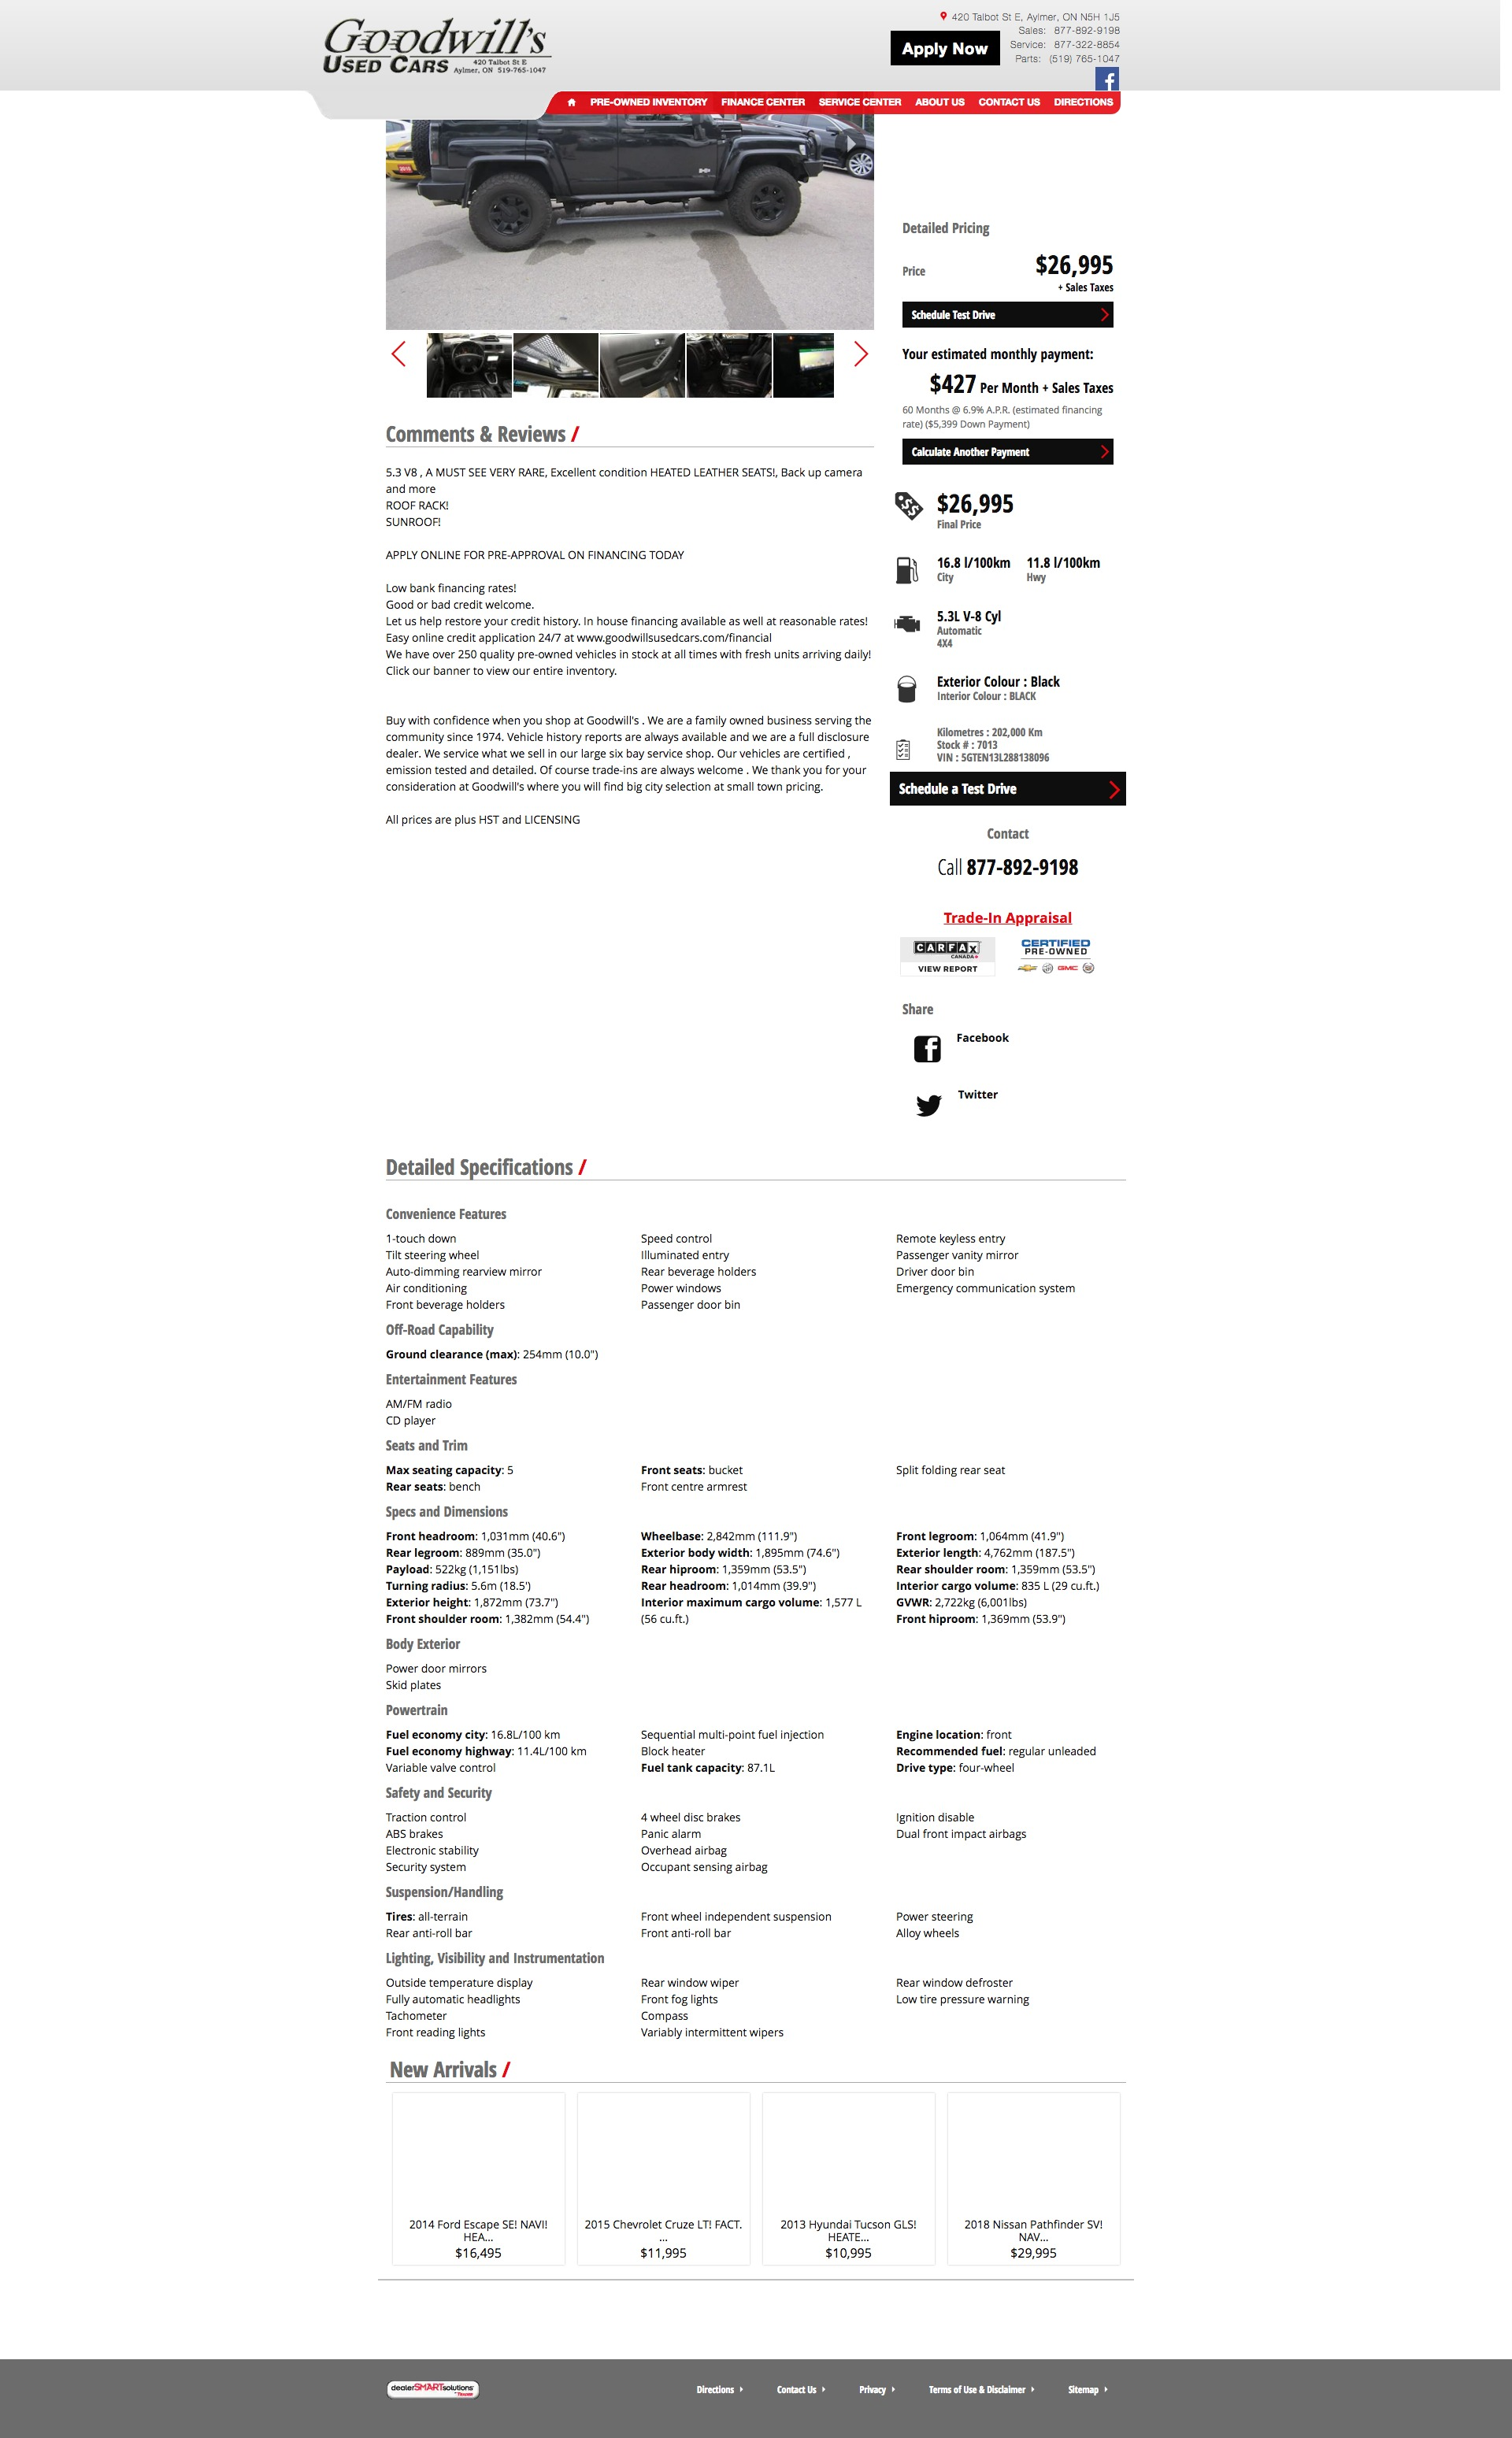car: (855, 341, 869, 367)
